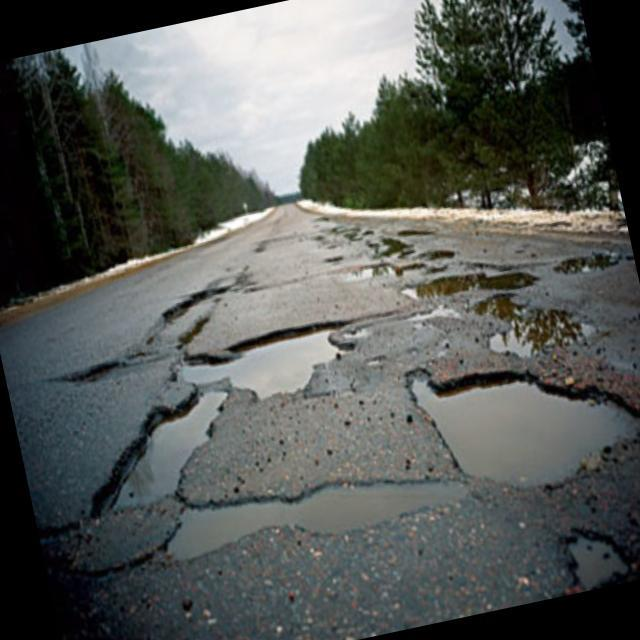Pothole: (396, 313, 640, 521), (220, 451, 412, 565), (170, 310, 357, 424), (76, 424, 204, 528), (397, 255, 535, 322), (559, 516, 626, 590), (66, 344, 138, 388), (560, 238, 624, 286), (165, 276, 224, 324)
